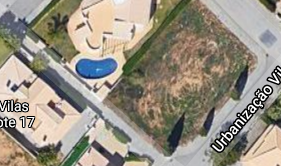pool: (75, 60, 119, 74)
